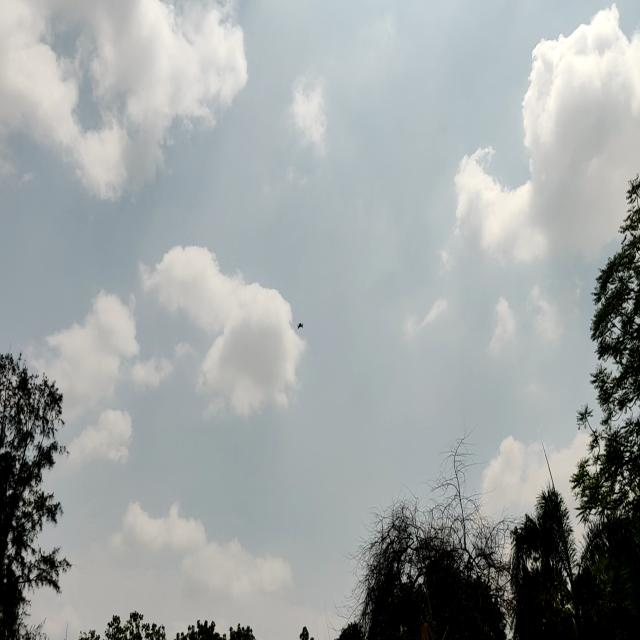drone: (292, 312, 308, 337)
